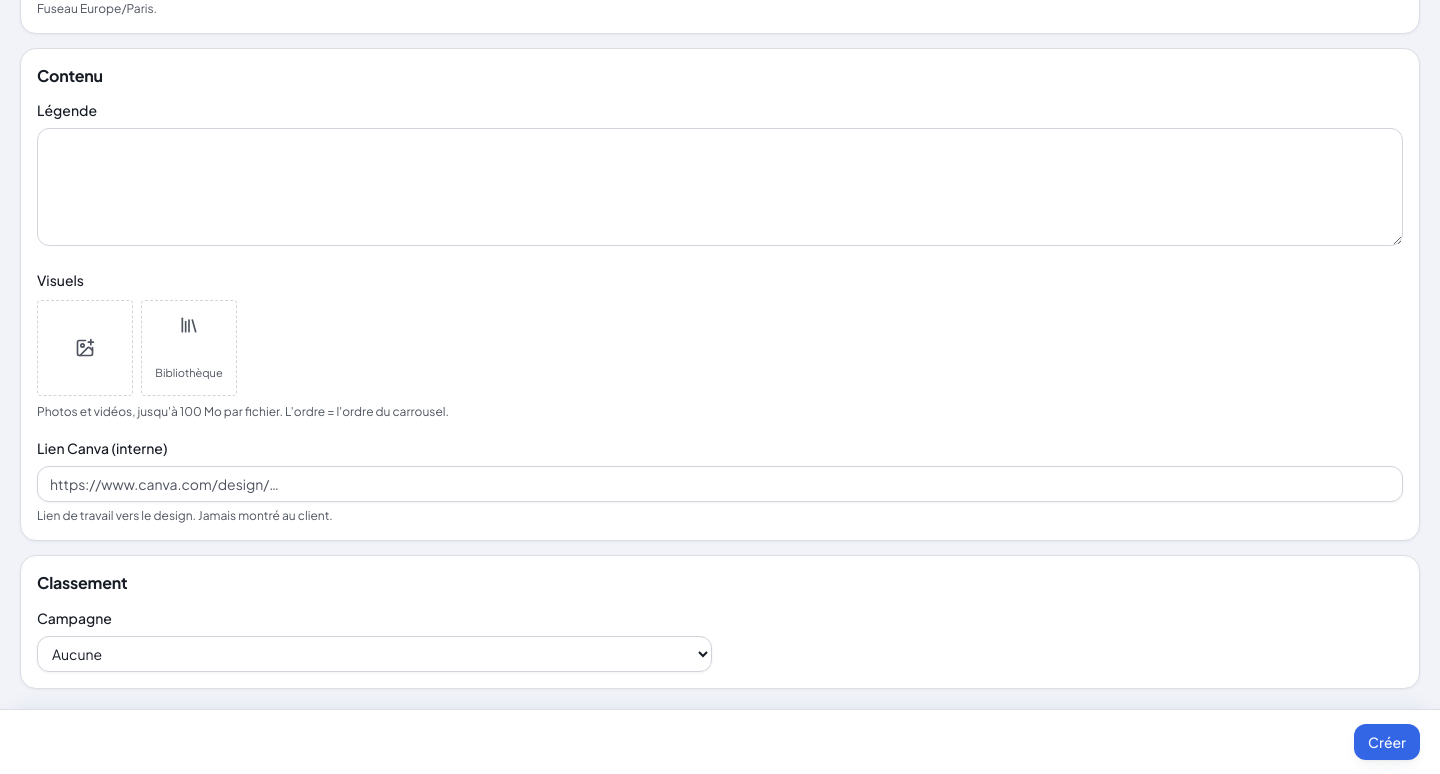
Test case: PostForm › valide les champs requis
The width and height of the screenshot is (1440, 774).
(page scrolled)
Click the button "Créer".
click(1387, 742)  # box x1=1354 y1=724 x2=1420 y2=760
(page scrolled)
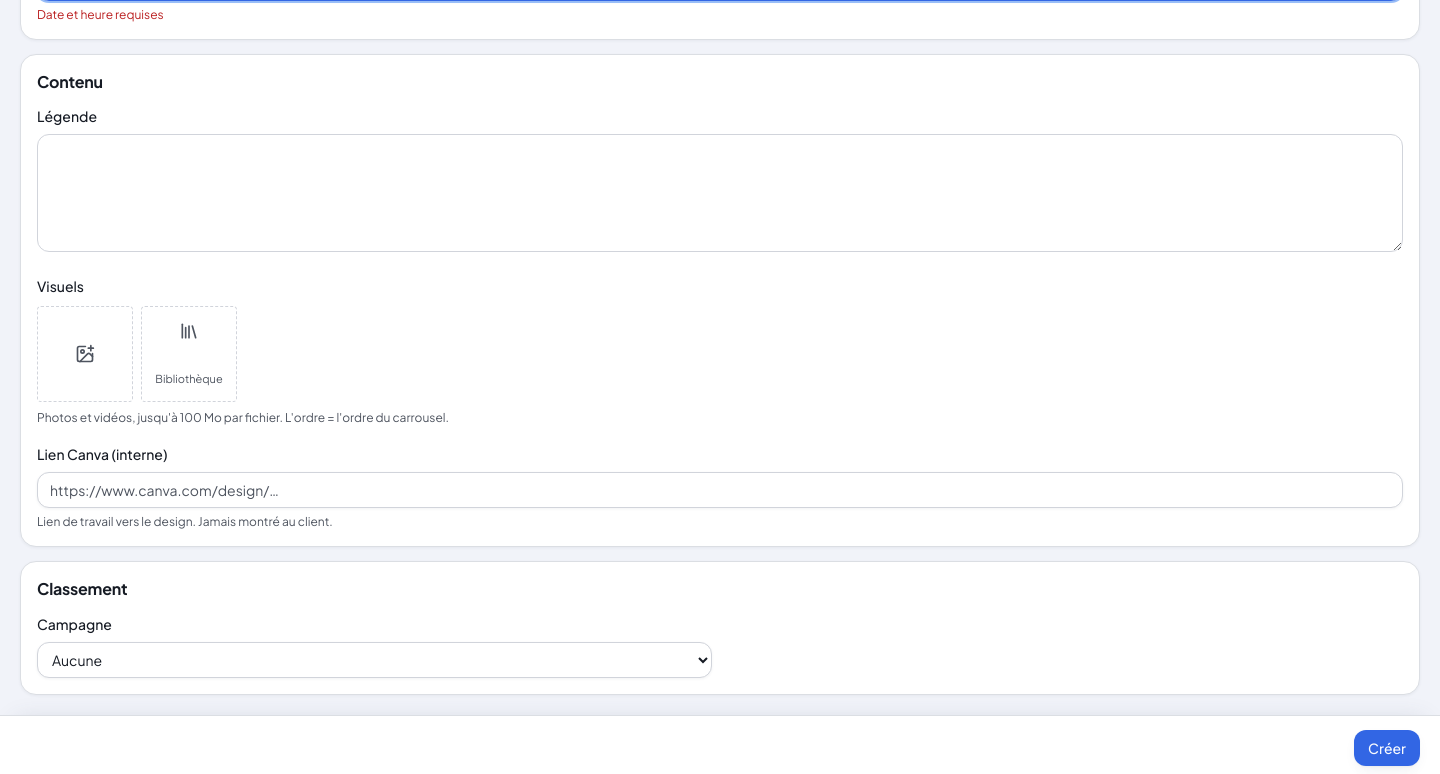
Expected: the text "Date et heure requises" is shown, x1=37 y1=7 x2=164 y2=22
